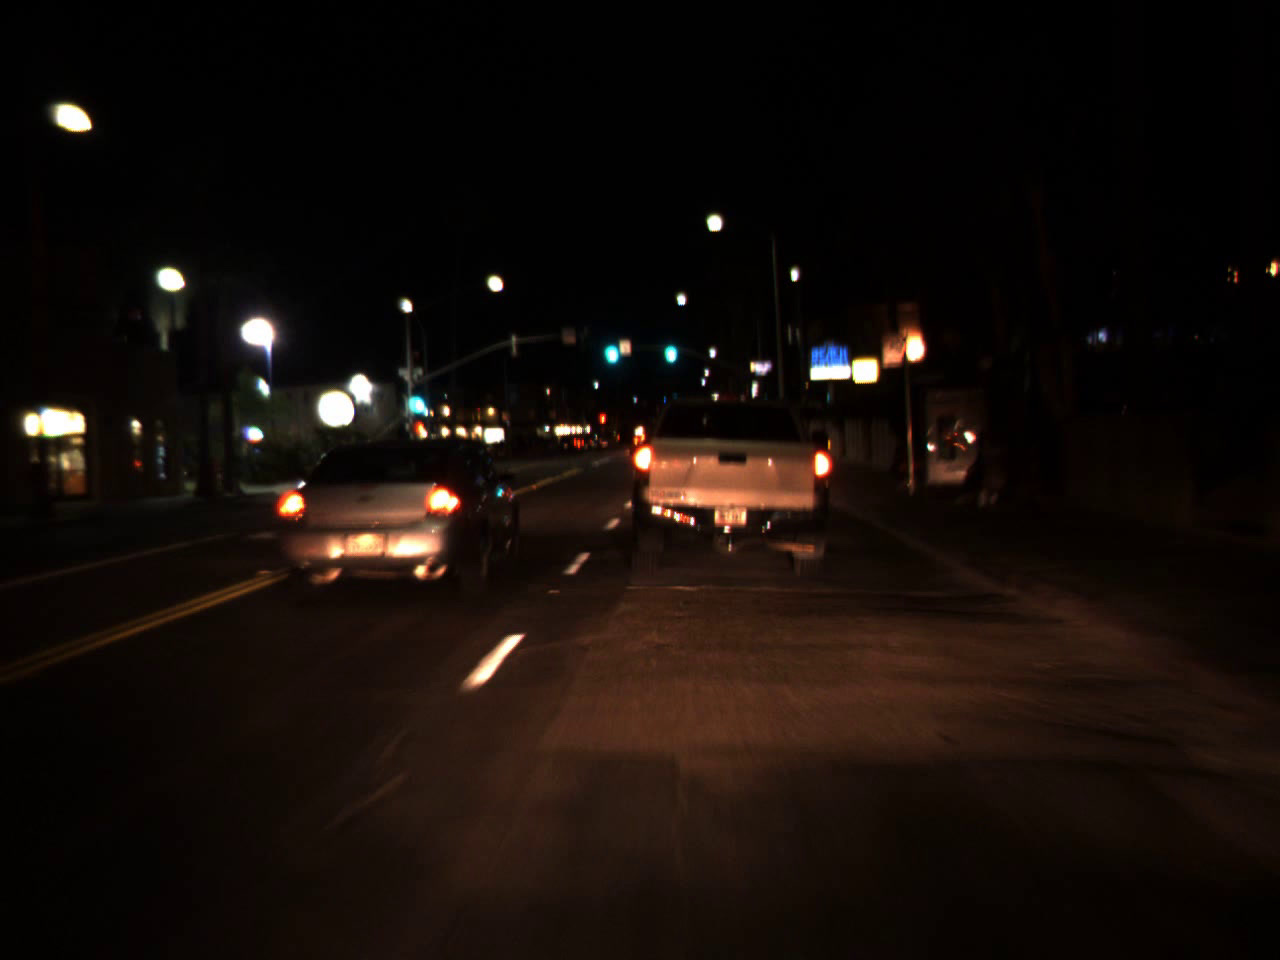go: (400, 371, 430, 425), (600, 322, 621, 370), (661, 324, 679, 369)
